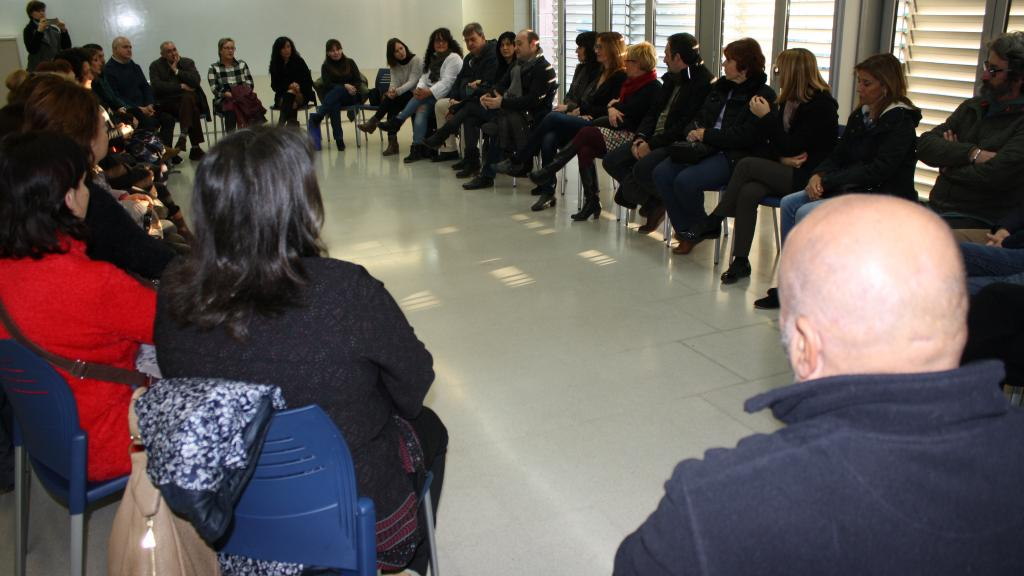person: (600, 176, 998, 544), (159, 142, 450, 495), (834, 44, 924, 239)
